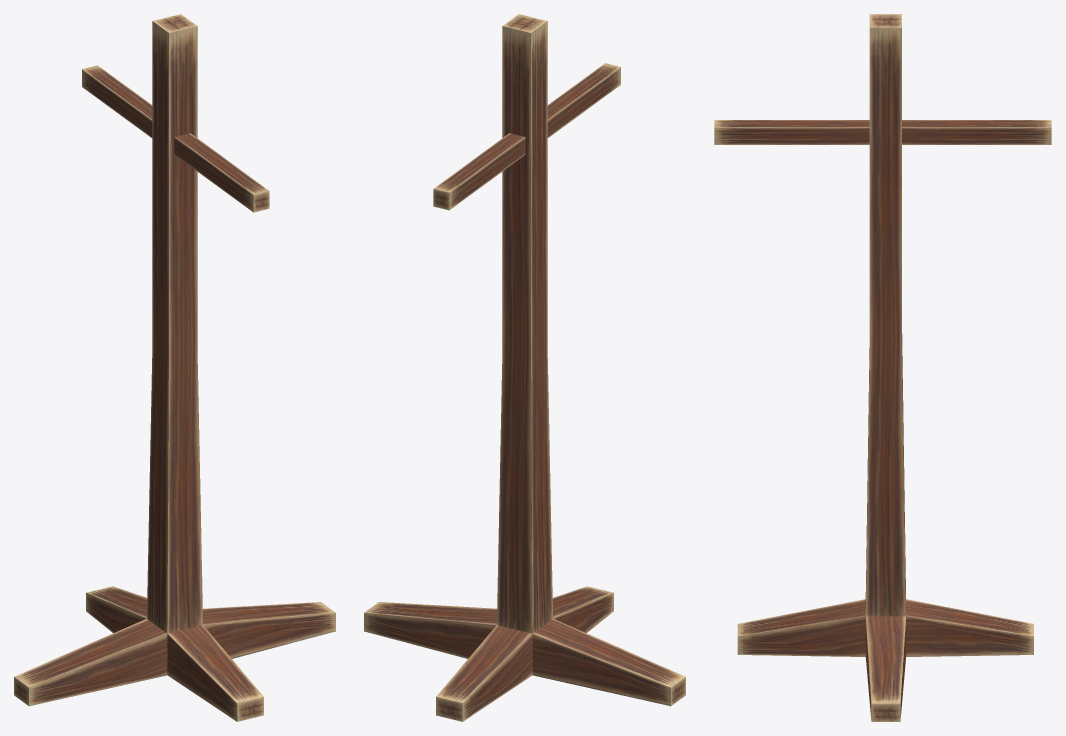
File: armorstand.obj
The picture shows the model from 3 angles, left to right: view 1: azimuth 30°, elevation 25°; view 2: azimuth 150°, elevation 25°; view 3: azimuth 270°, elevation 25°; orthographic projection.
Parts seen in each view (by area): view 1: armorstand; view 2: armorstand; view 3: armorstand.
Boxes of the visible parts, x1=… form: armorstand: x1=14, y1=14, x2=335, y2=721; armorstand: x1=364, y1=14, x2=685, y2=721; armorstand: x1=714, y1=14, x2=1051, y2=721.
Size of the model in its own units: 0.8958 by 1.79 by 0.8686.
1 material, 1 textured.
